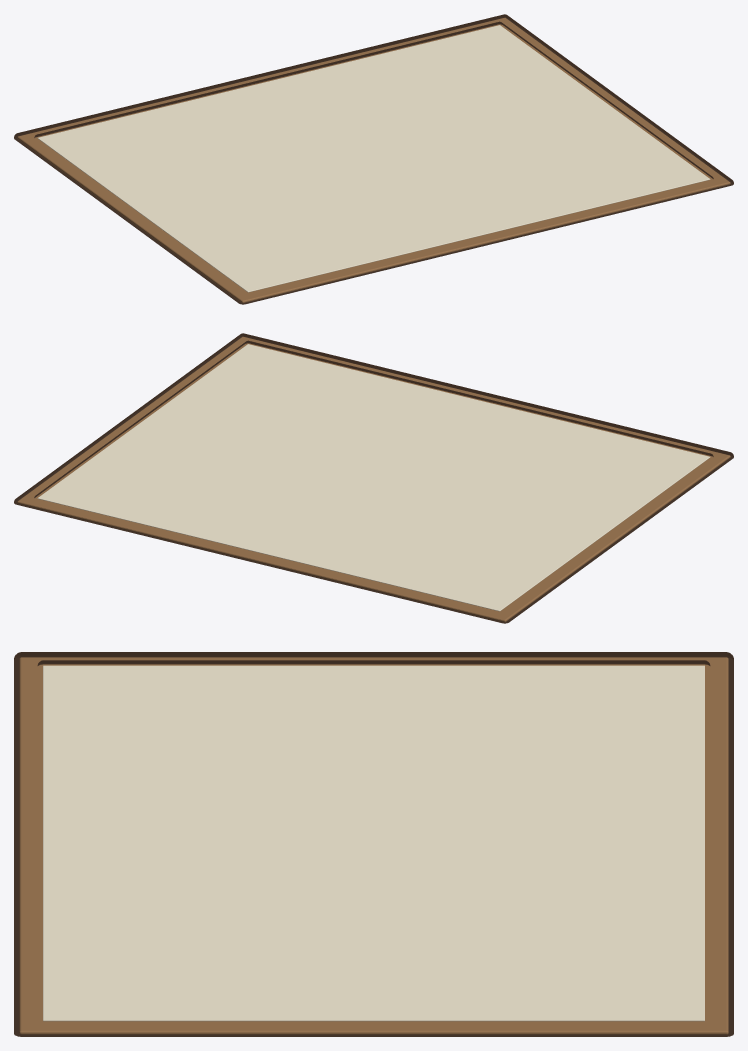
The model's file is teahouse-rug.glb.
3 renders of one model, top to bottom at view 1: azimuth 30°, elevation 25°; view 2: azimuth 150°, elevation 25°; view 3: azimuth 270°, elevation 25°, orthographic. The views are drawn at different scales.
Visible parts, largest first — view 1: botanic-rug.006, botanic-rug-outline.006; view 2: botanic-rug.006, botanic-rug-outline.006; view 3: botanic-rug.006, botanic-rug-outline.006.
Boxes of the visible parts, bbox=[...] form: botanic-rug.006: bbox=[17, 17, 730, 303]; botanic-rug-outline.006: bbox=[14, 14, 733, 304]; botanic-rug.006: bbox=[17, 336, 730, 622]; botanic-rug-outline.006: bbox=[14, 333, 733, 623]; botanic-rug.006: bbox=[19, 657, 728, 1034]; botanic-rug-outline.006: bbox=[14, 652, 733, 1036].
Bounding box in the file's own units: 3.04 × 0.0389 × 2.44.
